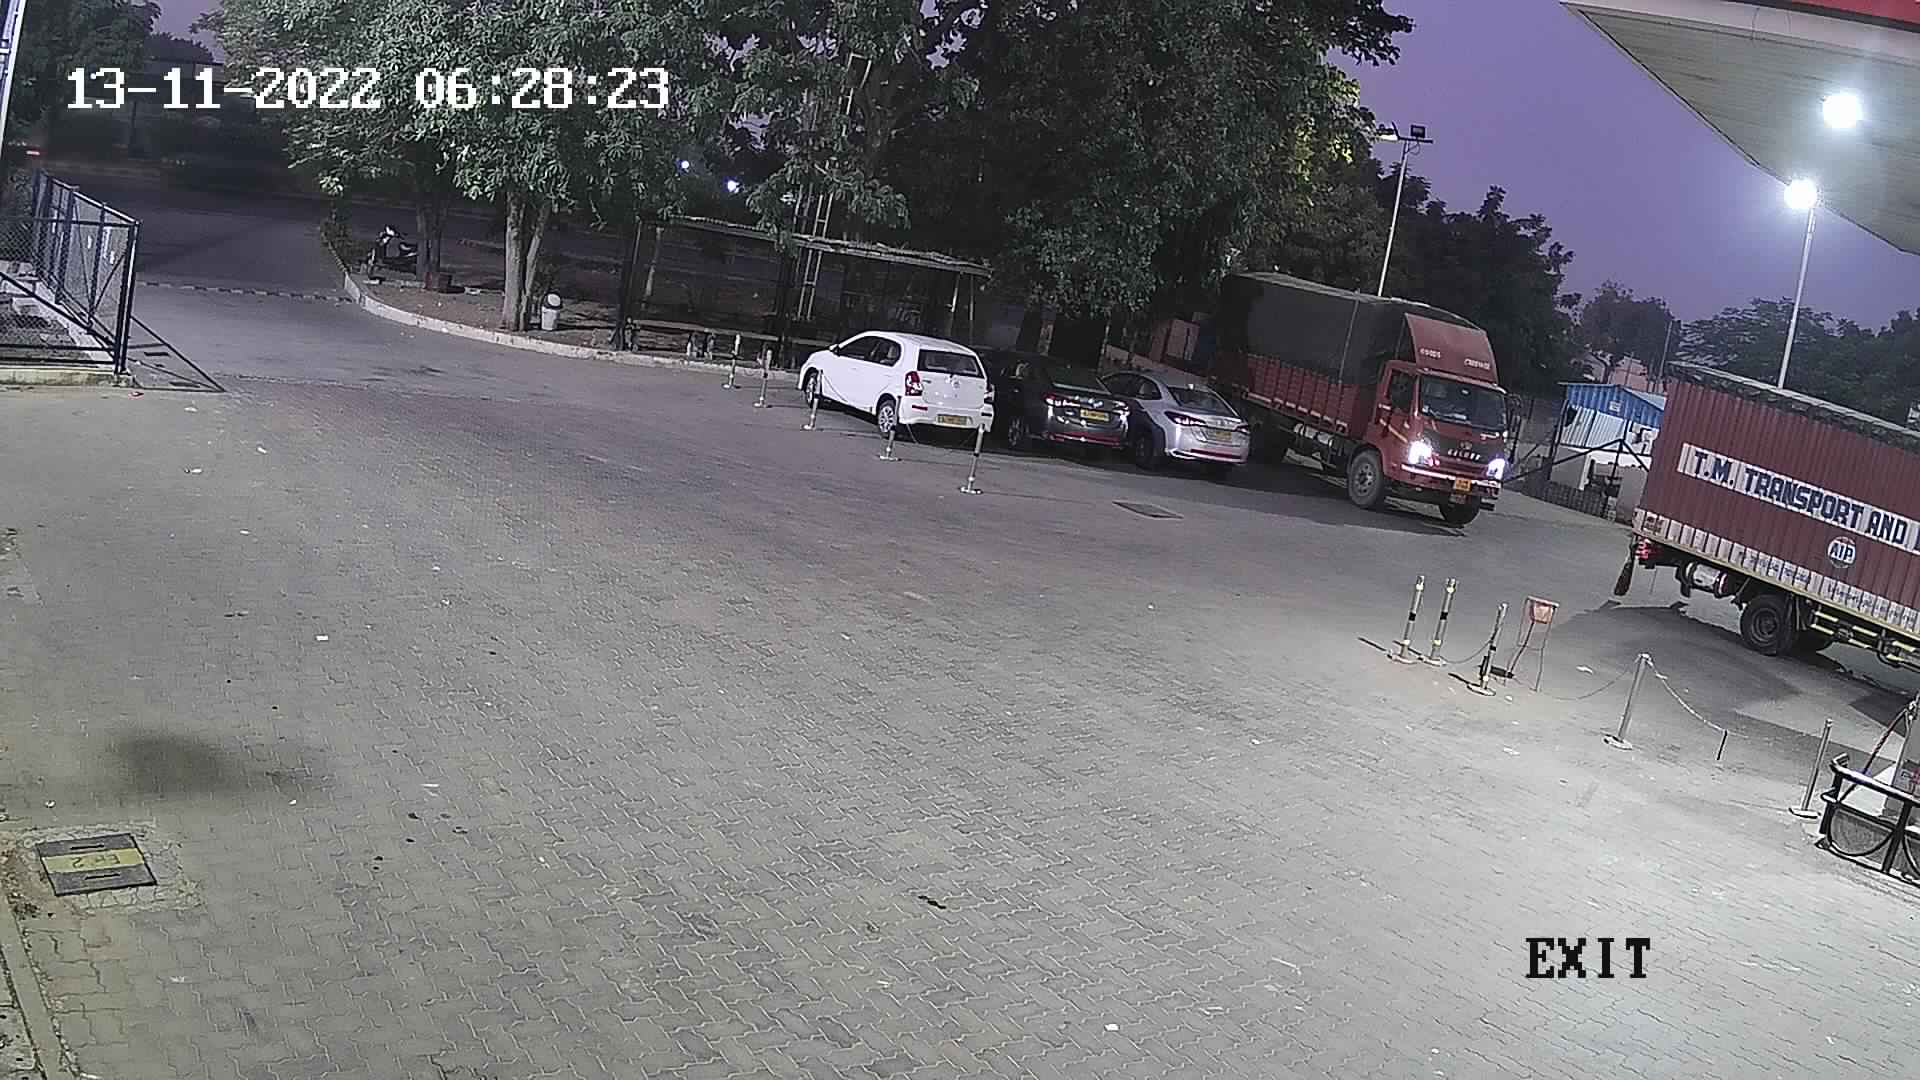Bike: (349, 206, 433, 291)
Car: (794, 314, 1006, 446), (957, 335, 1137, 467), (1092, 357, 1261, 485)
HMV: (1610, 347, 1917, 684), (1176, 248, 1532, 531)
